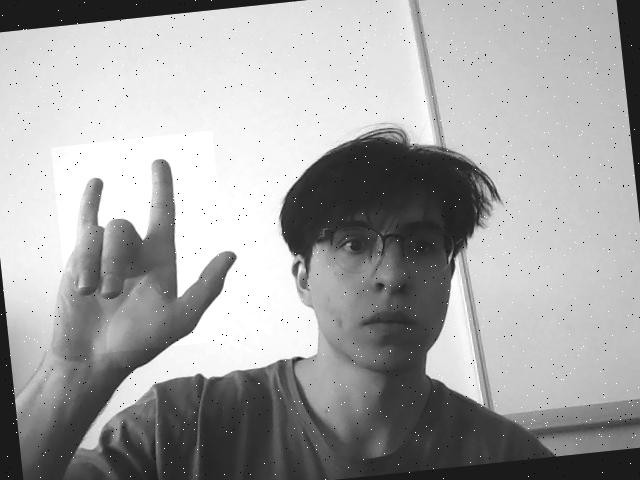I_Love_You: (51, 131, 234, 356)
